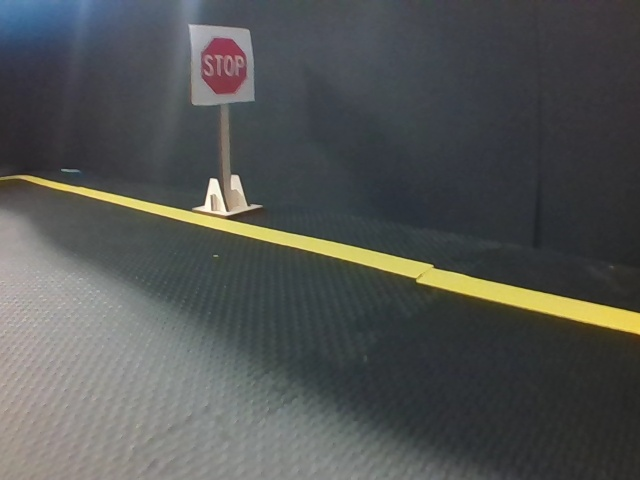stop: (191, 25, 254, 102)
